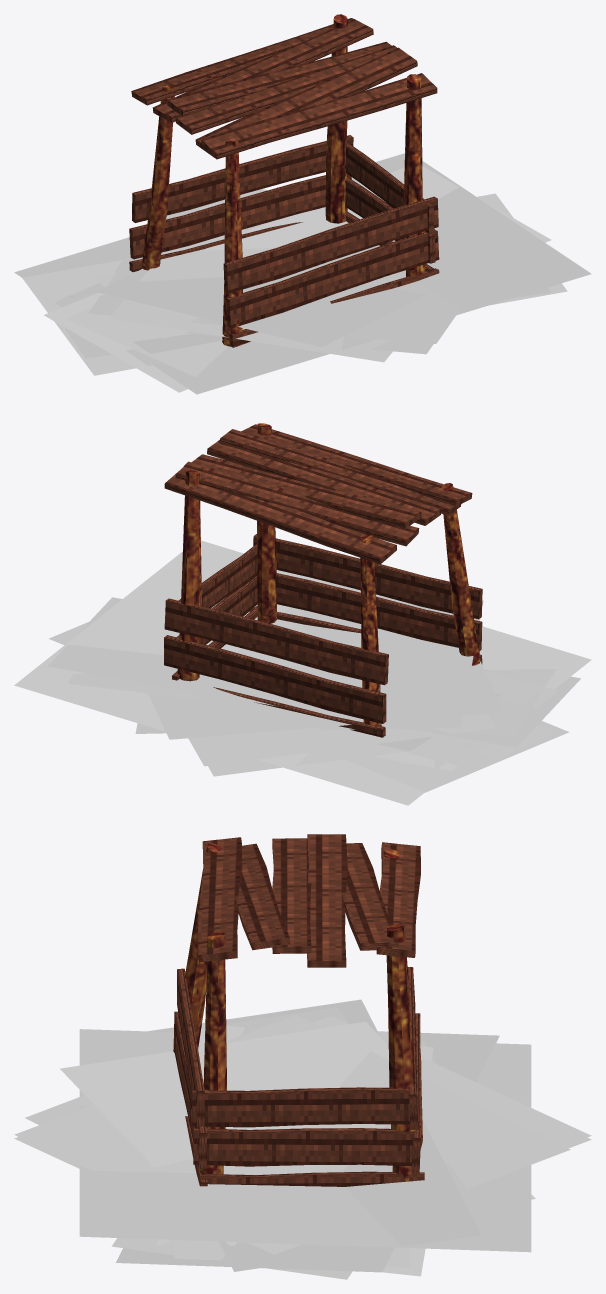
File: shed_4.fbx
3 renders of one model, top to bottom at view 1: azimuth 30°, elevation 25°; view 2: azimuth 150°, elevation 25°; view 3: azimuth 270°, elevation 25°, orthographic. The views are drawn at different scales.
Visible parts, largest first — view 1: Plane.005, Plane.008, Cube.003, Cube.004, Plane.007, Plane.009, Cube.009, Cube.001, Cube.002, Plane.011, Cube.010, Plane.002 (+16 smaller); view 2: Plane.005, Plane.008, Plane.007, Cube.002, Cube.001, Plane.009, Plane.011, Cube.003, Cube.004, Cube.006, Cube.007, Cube.008 (+17 smaller); view 3: Plane.005, Plane.008, Plane.007, Plane.009, Plane.011, Cube.013, Cube.014, Plane.002, Cube.008, Cube.009, Cube.011, Cylinder (+14 smaller).
Boxes of the visible parts, x1,y1,x2,y2 form: Plane.005: (14,153,591,394); Plane.008: (96,268,425,347); Cube.003: (223,196,438,293); Cube.004: (226,229,439,328); Plane.007: (109,189,392,362); Plane.009: (44,166,551,392); Cube.009: (201,73,437,159); Cube.001: (129,174,351,259); Cube.002: (132,135,353,222); Plane.011: (88,206,460,343); Cube.010: (195,47,417,157); Plane.002: (22,193,567,375); Plane.005: (14,540,591,805); Plane.008: (135,600,483,733); Plane.007: (148,661,503,739); Cube.002: (164,598,388,685); Cube.001: (164,635,386,723); Plane.009: (47,597,580,747); Plane.011: (188,570,495,766); Cube.003: (253,534,482,619); Cube.004: (276,573,482,651); Cube.006: (164,471,396,564); Cube.007: (175,461,419,546); Cube.008: (191,454,421,528); Plane.005: (79,1029,531,1252); Plane.008: (60,1021,535,1245); Plane.007: (25,1015,570,1188); Plane.009: (148,999,481,1271); Plane.011: (14,1016,591,1254); Cube.013: (193,1128,417,1166); Cube.014: (192,1087,410,1127); Plane.002: (116,1031,499,1272); Cube.008: (307,834,347,967); Cube.009: (198,837,242,962); Cube.011: (272,838,311,953); Cylinder: (387,923,419,1181).
Size of the model in its own units: 310 by 151 by 273.
